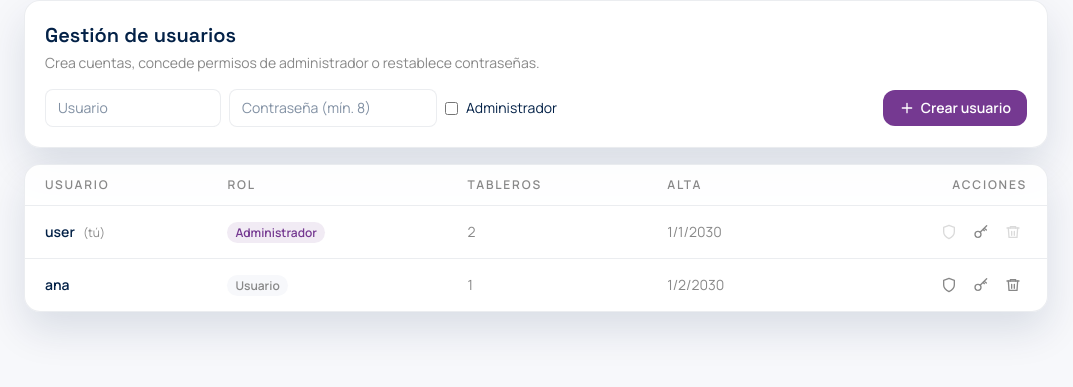
UsersAdmin › creates a user and refreshes the list
Expected: the row with test id "user-ana" is shown, x1=25 y1=258 x2=1047 y2=311
Type " pedro " into the field named "Nombre del nuevo usuario". click: (133, 108)
box: x1=45 y1=89 x2=221 y2=127
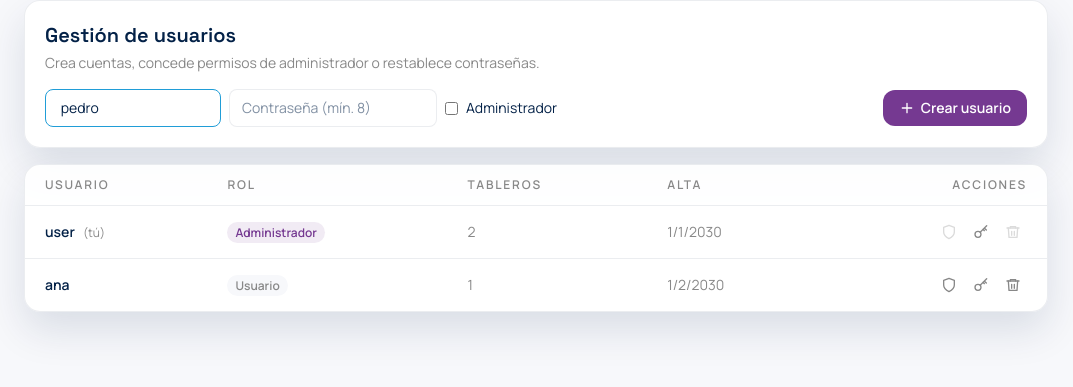
Type "secreto123" into the password field named "Contraseña del nuevo usuario". click: (333, 108)
box: x1=229 y1=89 x2=437 y2=127
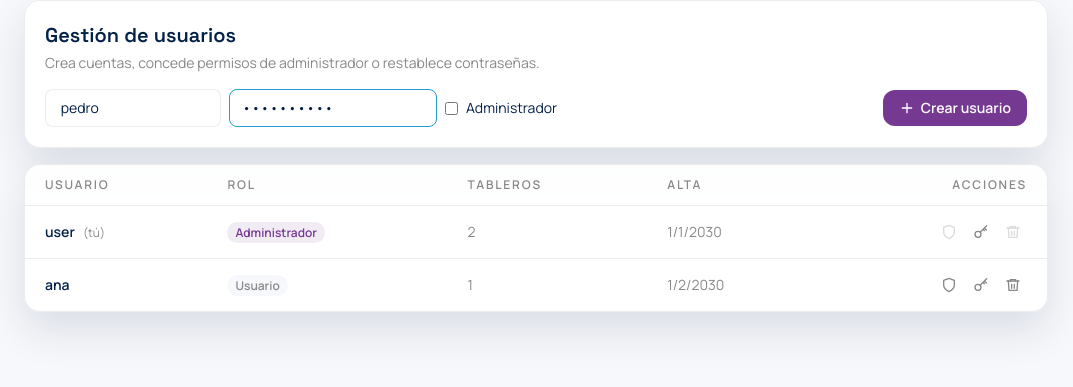
Click the checkbox labelled "Administrador". click: (452, 108)
box: x1=445 y1=102 x2=458 y2=114
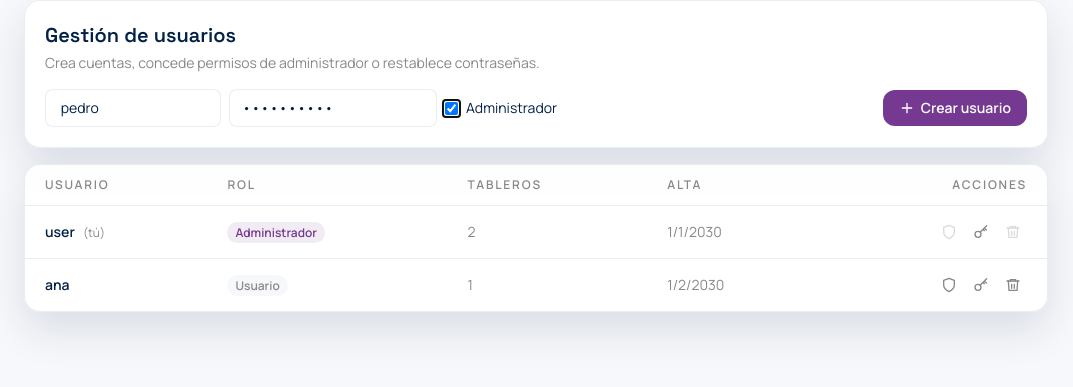
Click the button "Crear usuario". click: (955, 108)
box: x1=883 y1=90 x2=1027 y2=126
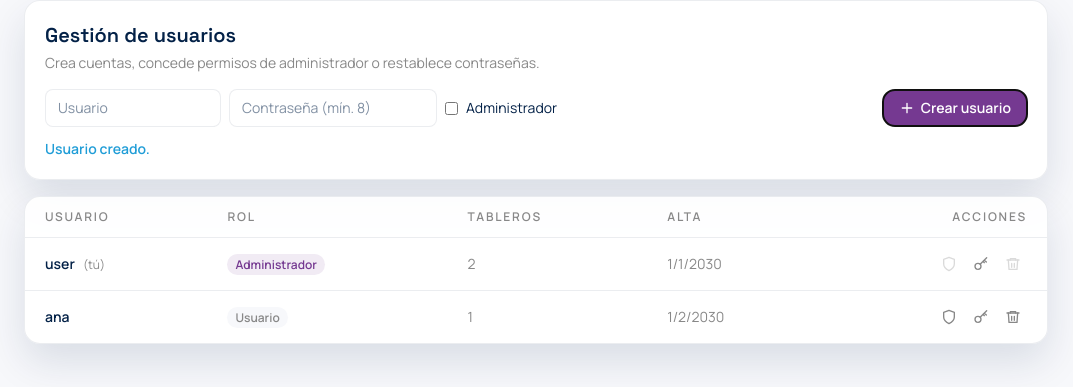
Expected: the message reads "Usuario creado.", x1=45 y1=139 x2=150 y2=158
Expected: the field named "Nombre del nuevo usuario" is empty, x1=45 y1=89 x2=221 y2=127
